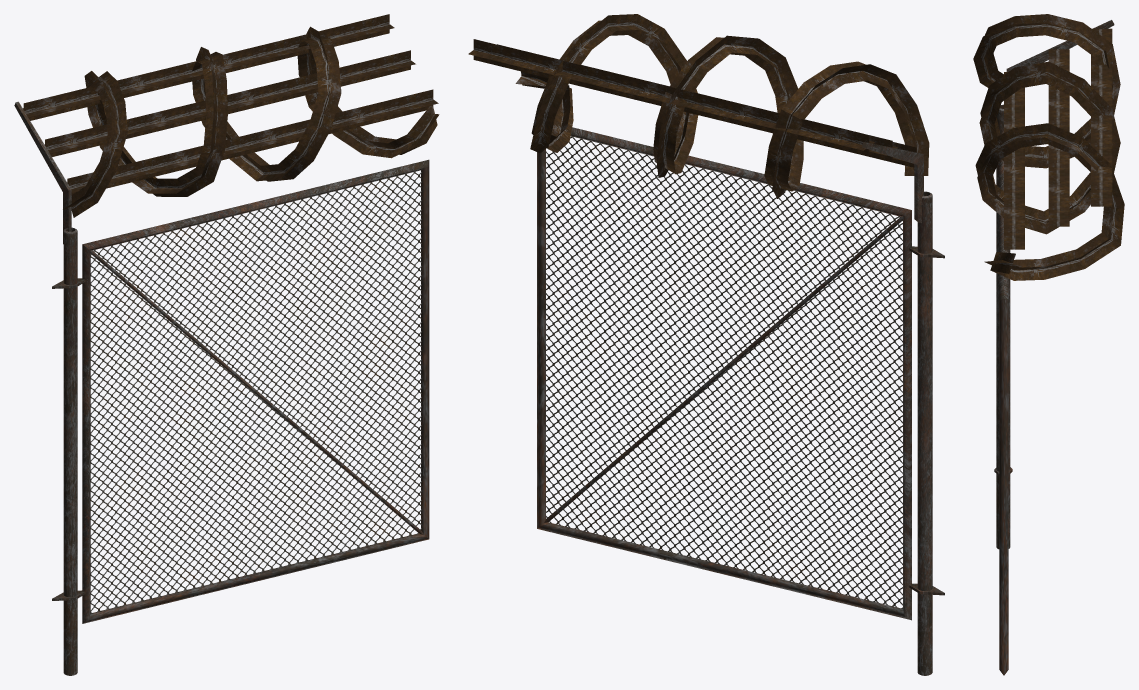
File: Fence_metal_02.FBX
The picture shows the model from 3 angles, left to right: view 1: azimuth 30°, elevation 25°; view 2: azimuth 150°, elevation 25°; view 3: azimuth 270°, elevation 25°; orthographic projection. The views are drawn at different scales.
Parts seen in each view (by area): view 1: Fence_metal_grid_02, Fence_metal_wire_002, Fence_metal_02; view 2: Fence_metal_grid_02, Fence_metal_wire_002, Fence_metal_02; view 3: Fence_metal_wire_002, Fence_metal_02.
Boxes of the visible parts, x1,y1,x2,y2 form: Fence_metal_grid_02: (90, 171, 421, 613); Fence_metal_wire_002: (23, 14, 439, 217); Fence_metal_02: (14, 101, 429, 675); Fence_metal_grid_02: (546, 136, 902, 608); Fence_metal_wire_002: (468, 14, 929, 198); Fence_metal_02: (537, 127, 944, 675); Fence_metal_wire_002: (973, 14, 1124, 280); Fence_metal_02: (994, 20, 1114, 675).
Bounding box in the file's own units: 211 × 295 × 71.68.
